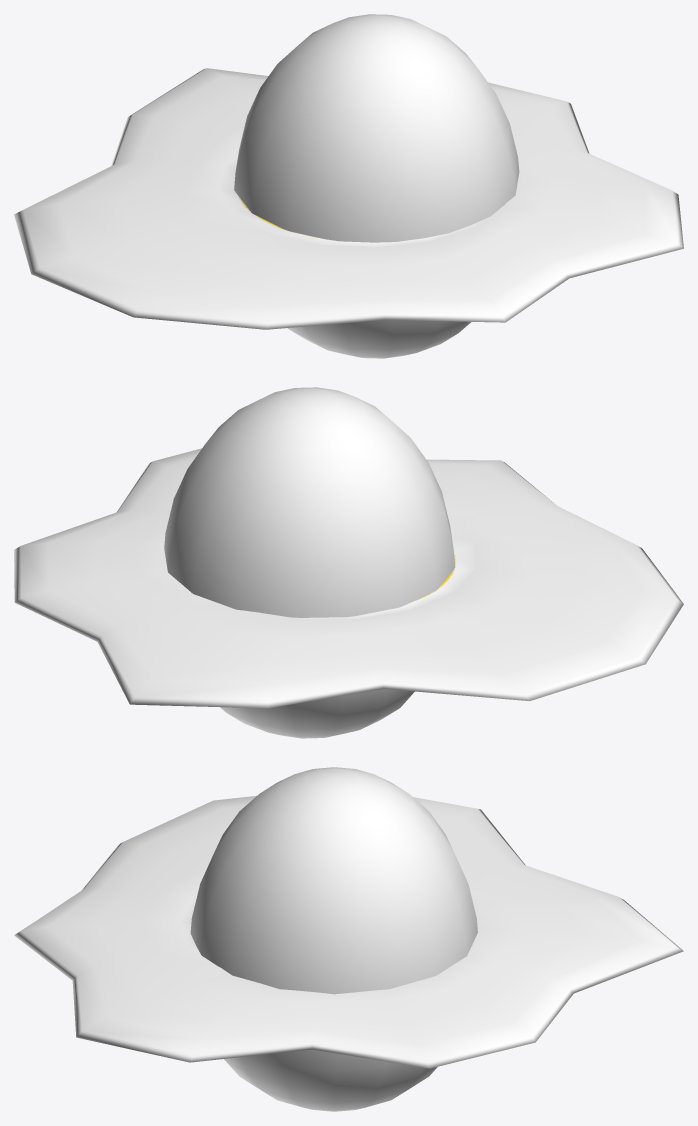
Rendered from egg.fbx.
The picture shows the model from 3 angles, top to bottom: view 1: azimuth 30°, elevation 25°; view 2: azimuth 150°, elevation 25°; view 3: azimuth 270°, elevation 25°; orthographic projection. The views are drawn at different scales.
Parts seen in each view (by area): view 1: eggSplat, egg; view 2: eggSplat, egg; view 3: eggSplat, egg.
Part boxes in pixels (x1,y1,x2,y2): eggSplat: (14,68,683,329); egg: (234,14,519,358); eggSplat: (14,448,683,708); egg: (164,387,455,738); eggSplat: (14,795,683,1068); egg: (190,767,477,1111).
Bounding box in the file's own units: 62.72 × 33.18 × 62.82.
